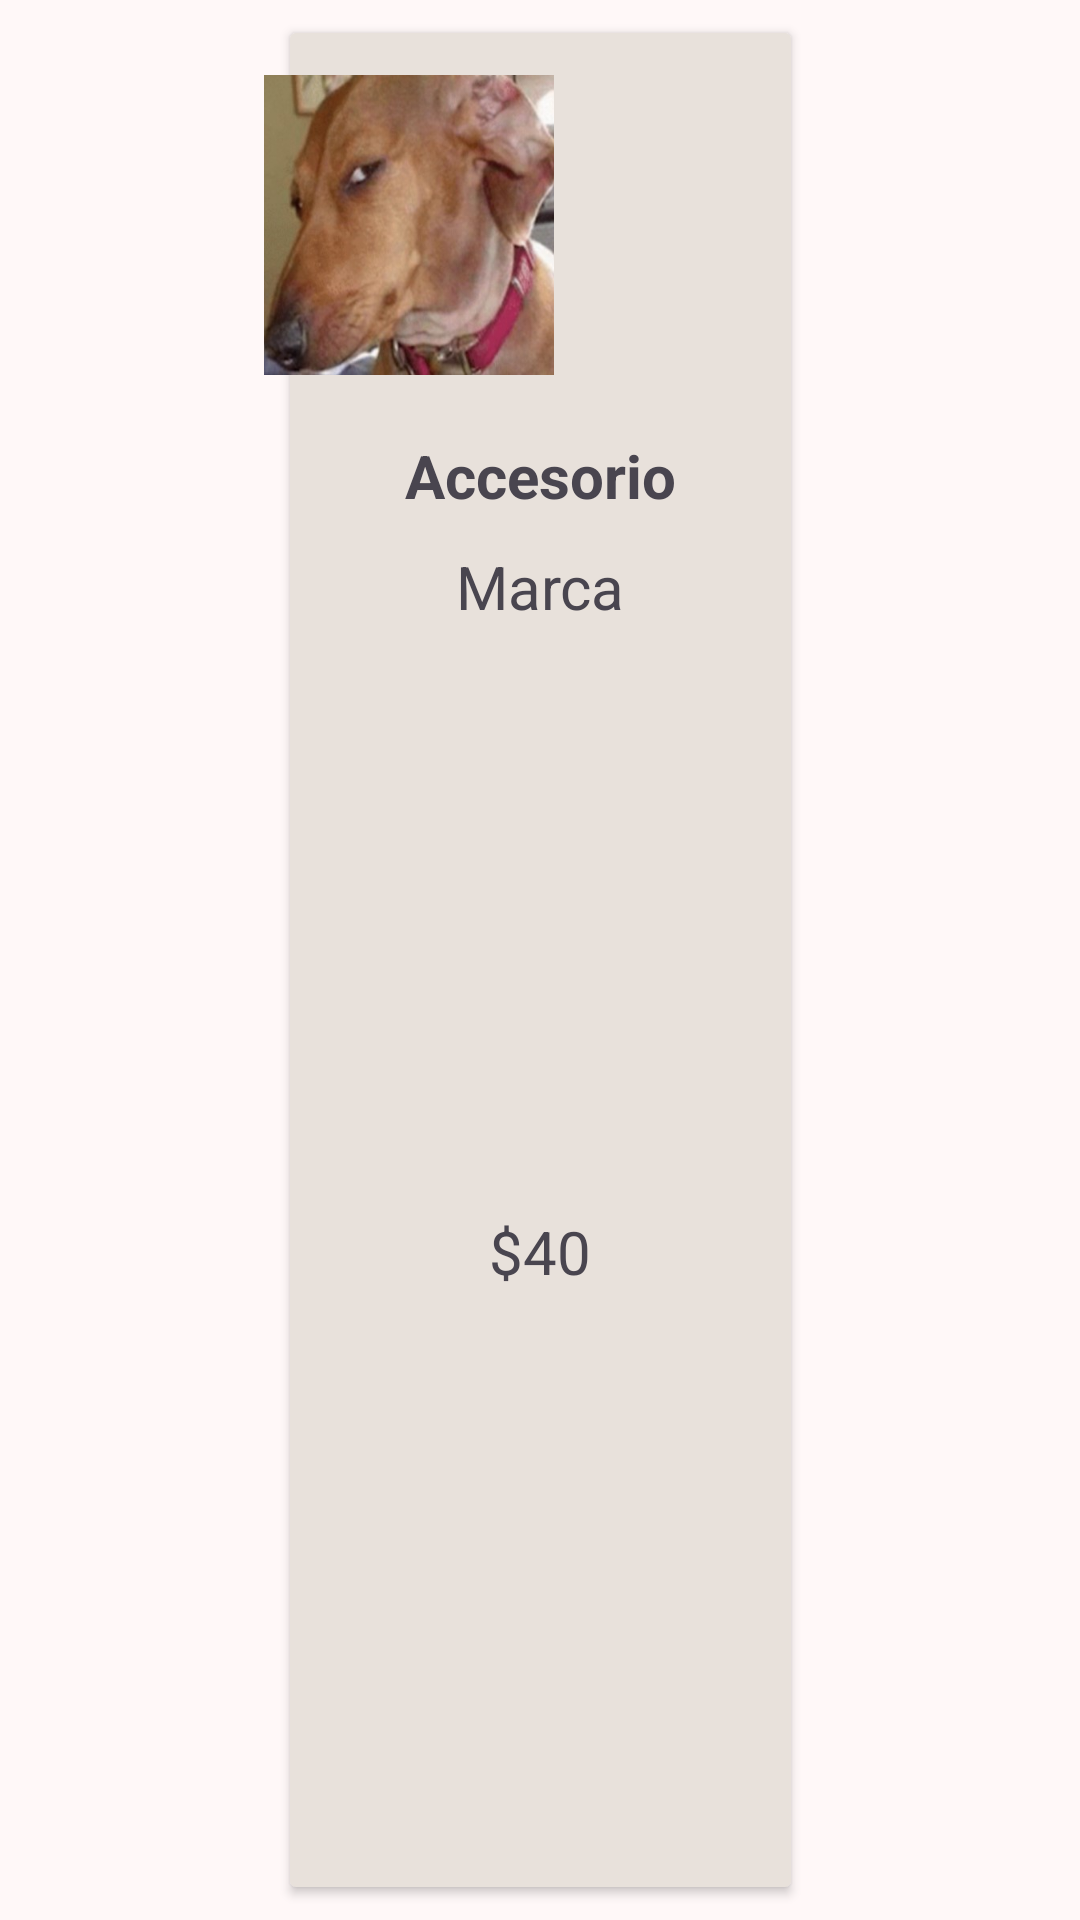

Icons on this 1080px×1920px Android screen, each with the point to tap as [x,y]:
dog: [406,225]
